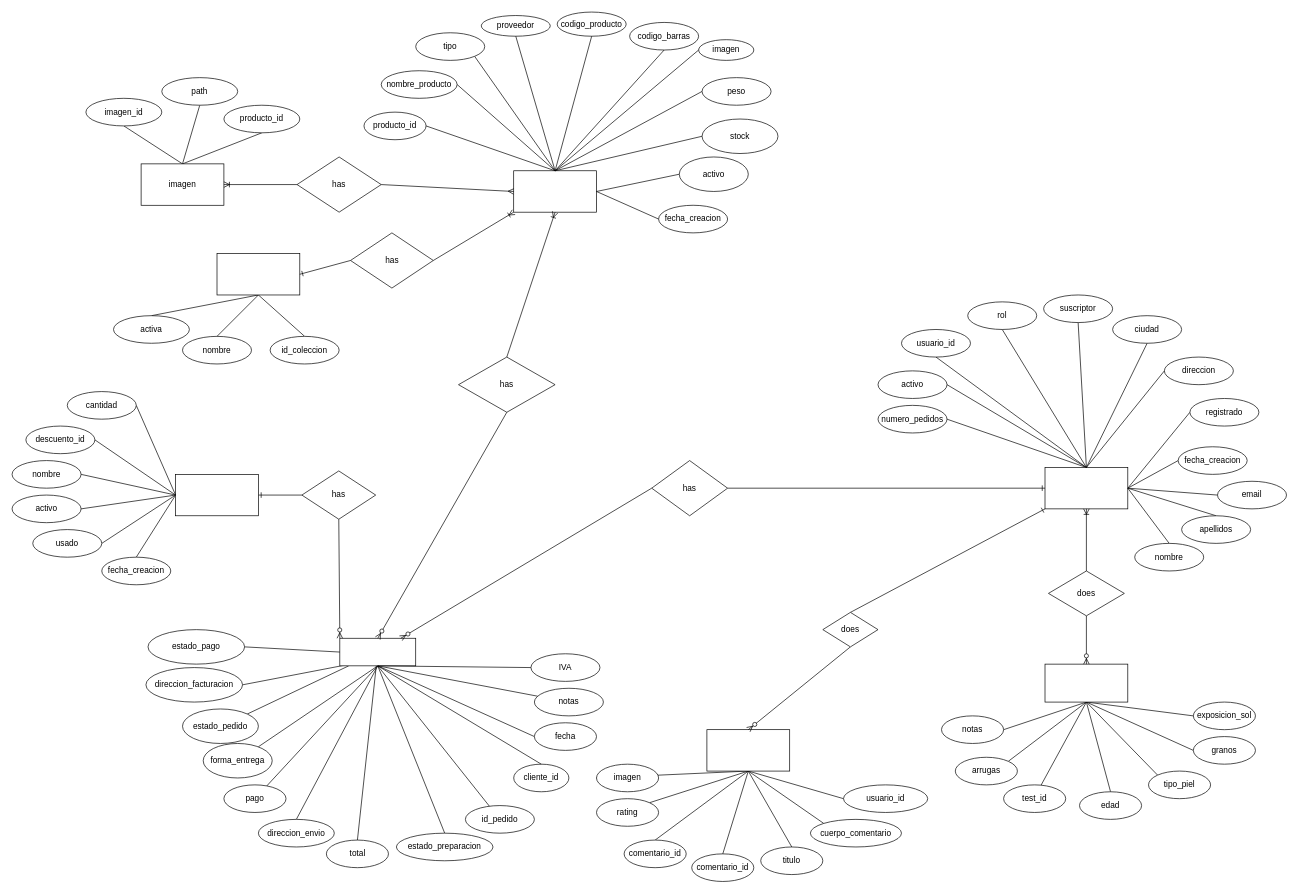
This 1299x894 diagram has some shape labels left out. Here are the shapes that lost their labels. From the top down, the box of each, then its label:
(513, 170, 597, 212): producto
(216, 253, 300, 295): coleccion
(175, 474, 258, 516): descuento
(1044, 467, 1128, 509): usuario
(339, 638, 416, 666): pedido
(1044, 663, 1128, 702): test_piel
(706, 729, 790, 771): comentarios
